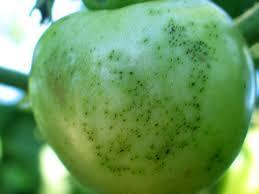tomato bacterial spot: (24, 1, 257, 194)
